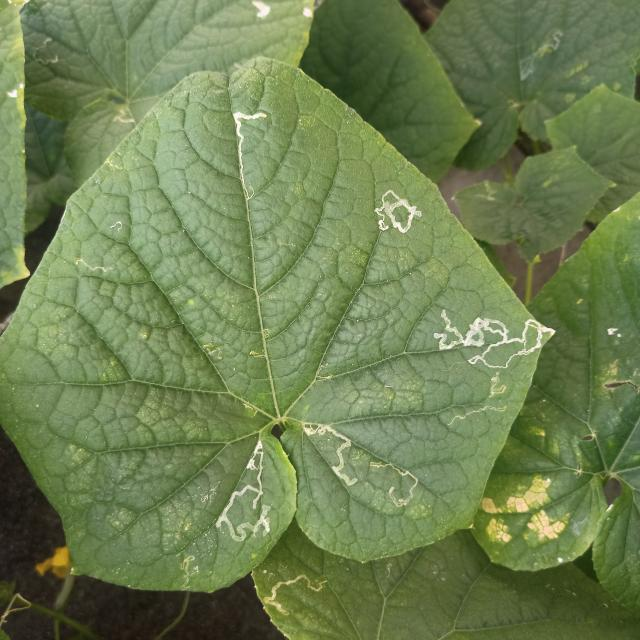disease_cucumber: (478, 474, 568, 543)
